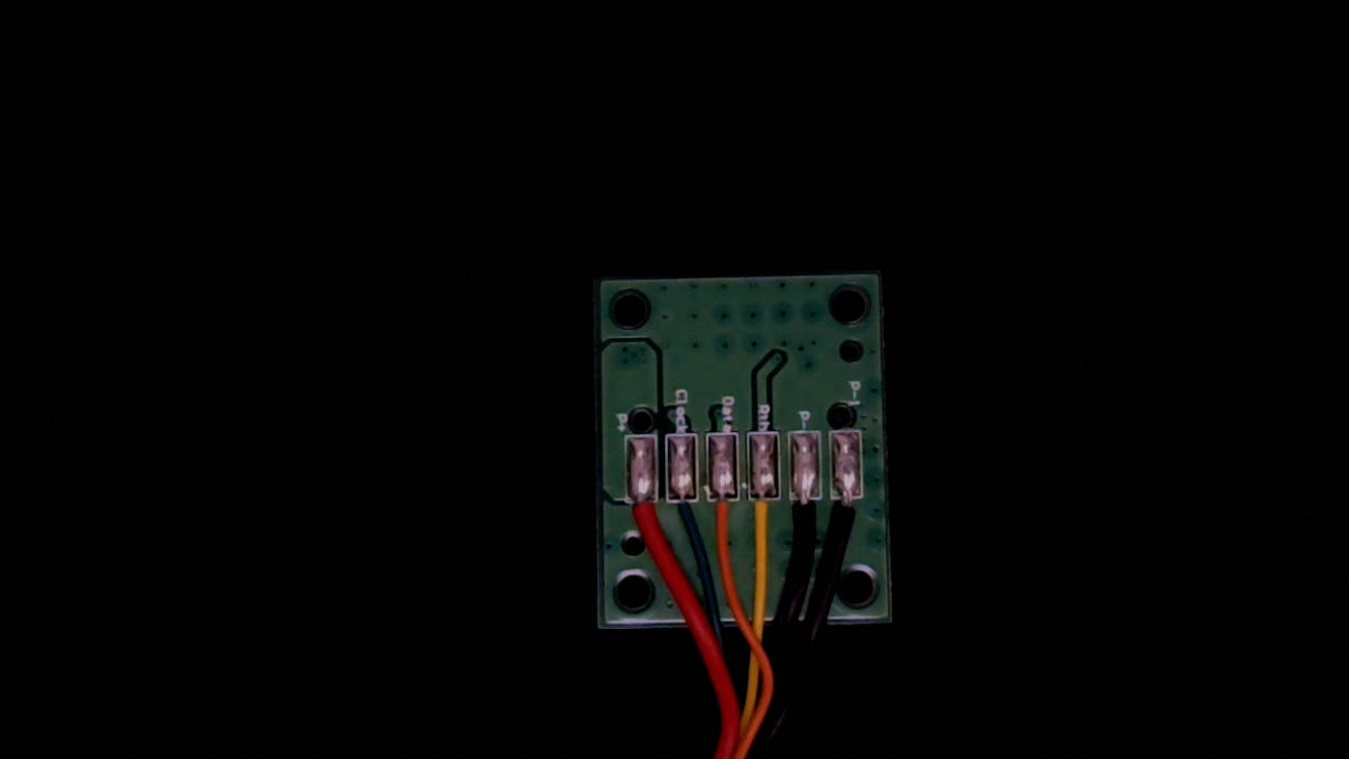Black: (785, 478, 822, 557)
Black1: (833, 478, 868, 550)
Green: (663, 485, 701, 539)
Orange: (704, 482, 739, 560)
Red: (622, 480, 659, 555)
Yellow: (744, 481, 780, 561)
